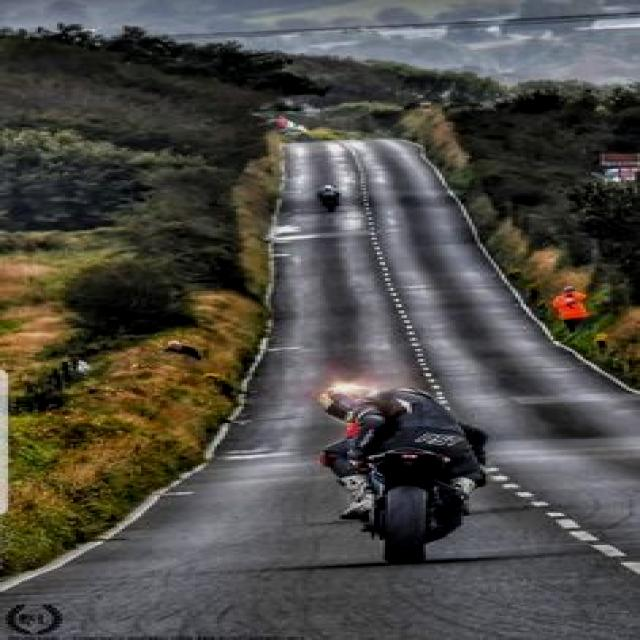MOTORCYCLE: (359, 423, 466, 559), (320, 188, 344, 213)
